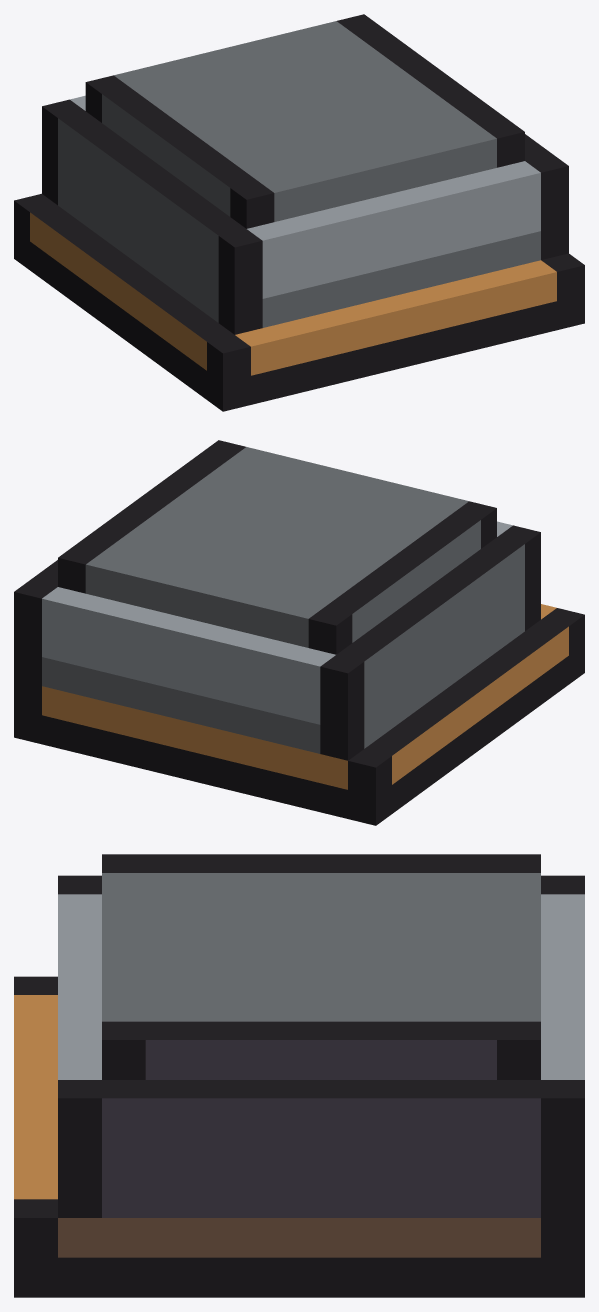
File: knight_PauldronL.glb
3 renders of one model, top to bottom at view 1: azimuth 30°, elevation 25°; view 2: azimuth 150°, elevation 25°; view 3: azimuth 270°, elevation 25°, orthographic. The views are drawn at different scales.
Parts seen in each view (by area): view 1: knight_PauldronL; view 2: knight_PauldronL; view 3: knight_PauldronL.
Part boxes in pixels (box(x1,y1,x2,y2)): knight_PauldronL: box(14, 14, 584, 411); knight_PauldronL: box(14, 440, 584, 825); knight_PauldronL: box(14, 854, 584, 1297).
Bounding box in the file's own units: 1.62 × 0.75 × 1.62.
1 material, 1 textured.
